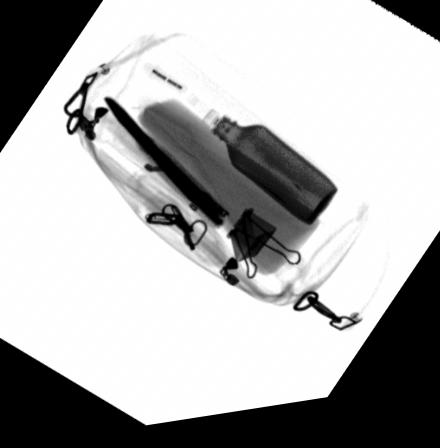Pliers: (100, 97, 229, 236)
